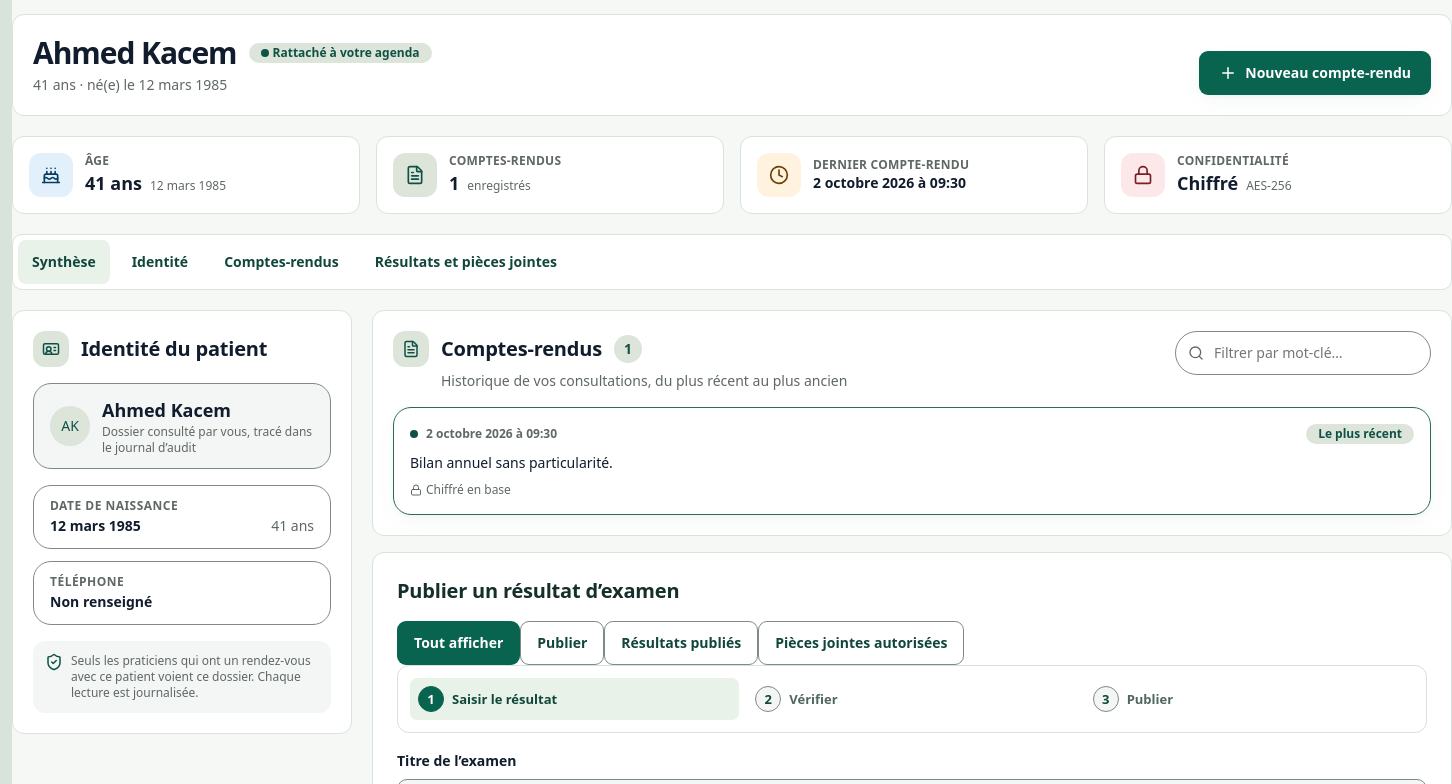
32.6: a network failure keeps the draft too
The width and height of the screenshot is (1452, 784).
Click the button "Nouveau compte-rendu": coordinates (1315, 73) x1=1199 y1=51 x2=1431 y2=95
(page scrolled)
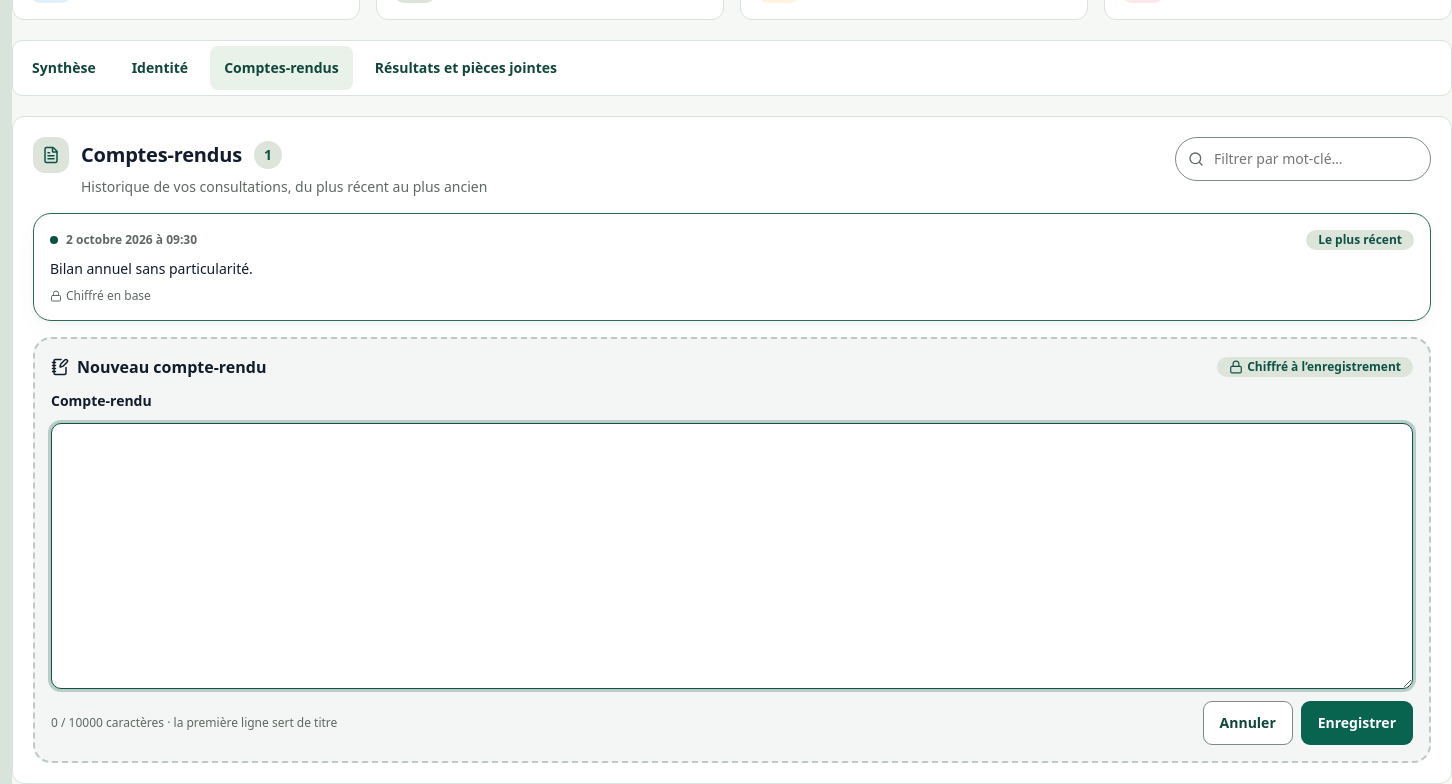
In the text box labelled "Compte-rendu": coordinates (732, 556) x1=51 y1=423 x2=1413 y2=689, type "Douleur thoracique atypique, ECG normal. Contrôle dans un mois."
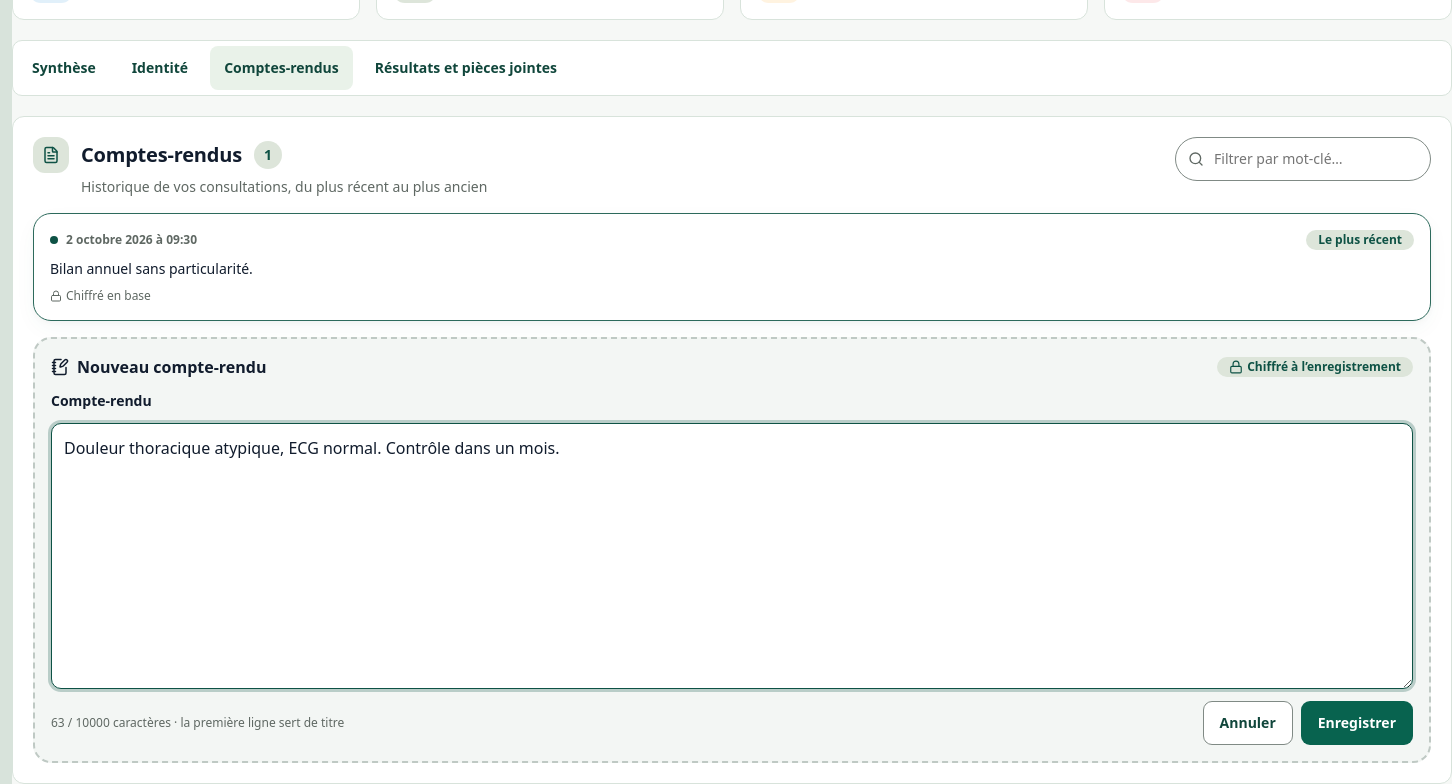
Click the button "Enregistrer": coordinates (1357, 723) x1=1301 y1=701 x2=1413 y2=745
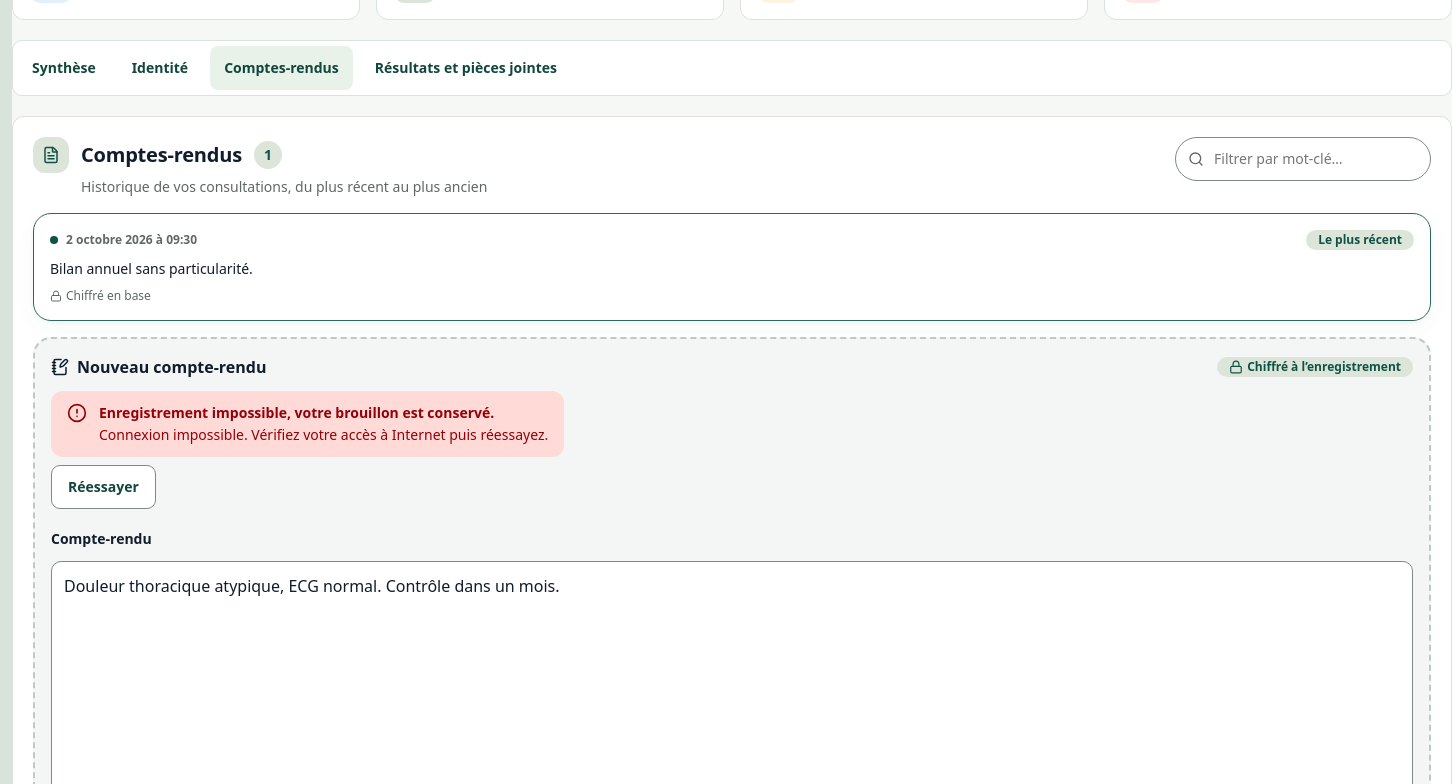
Expected: the message shows "Enregistrement impossible, votre brouillon est conservé.", x1=99 y1=403 x2=494 y2=422
Expected: the button "Réessayer" is enabled, x1=51 y1=465 x2=156 y2=509
